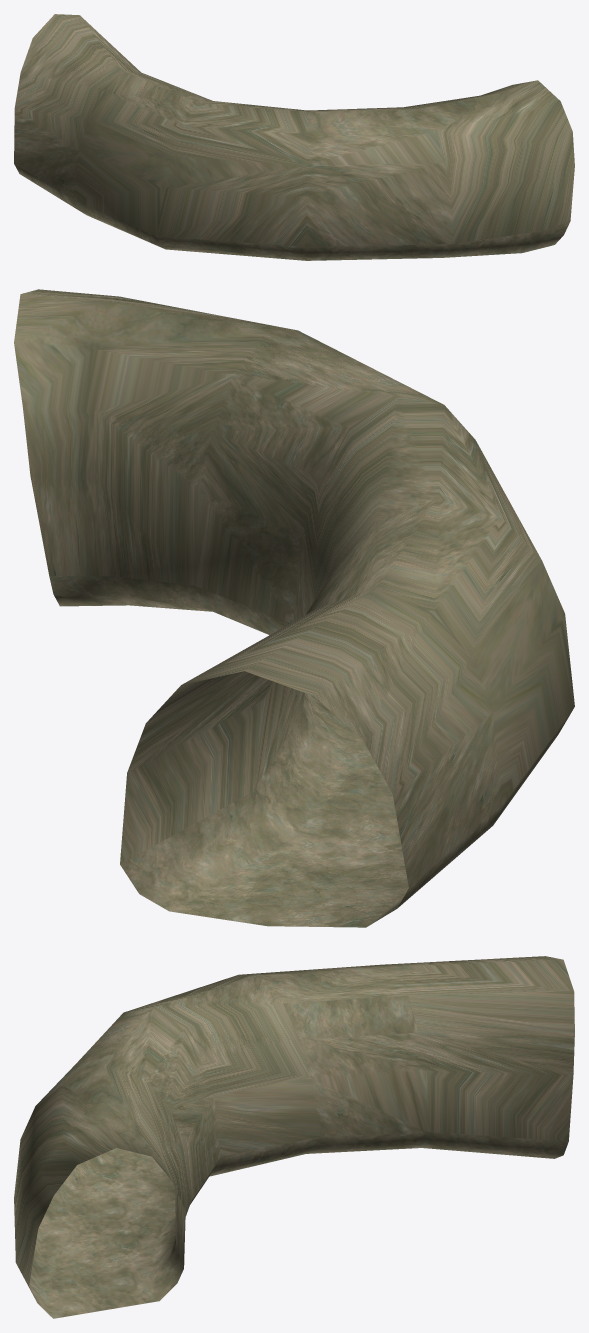
The model's file is OVERHILL_A_01_TRES_EXIT_CAVE01.fbx.
3 renders of one model, top to bottom at view 1: azimuth 30°, elevation 25°; view 2: azimuth 150°, elevation 25°; view 3: azimuth 270°, elevation 25°, orthographic. The views are drawn at different scales.
Visible parts, largest first — view 1: OVERHILL_A_01_TRES_EXIT_CAVE01; view 2: OVERHILL_A_01_TRES_EXIT_CAVE01; view 3: OVERHILL_A_01_TRES_EXIT_CAVE01.
Part boxes in pixels (bbox=[...]): OVERHILL_A_01_TRES_EXIT_CAVE01: bbox=[14, 14, 574, 260]; OVERHILL_A_01_TRES_EXIT_CAVE01: bbox=[14, 289, 574, 927]; OVERHILL_A_01_TRES_EXIT_CAVE01: bbox=[14, 956, 574, 1318].
Size of the model in its own units: 88587 by 34627 by 93651.
Materials: 1 (1 with a texture image).
